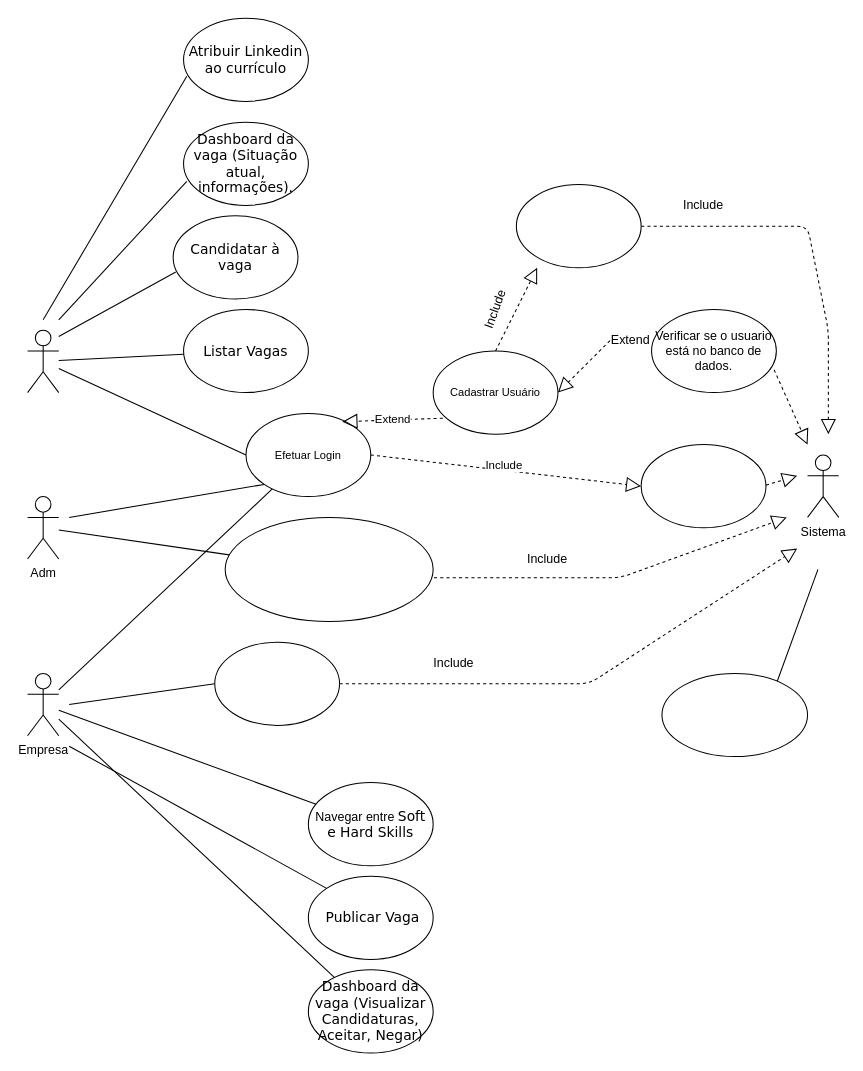
The diagram is 863 pixels wide and 1071 high, and some of its shapes have lost their labels. Each missing label, with the centre of its shape:
Aluno: the point at 43,361
Gerar perfil de personalidade: the point at 578,226
Gerar relátorios do colaborador: the point at 277,683
Notificações (Vagas,Candidaturas Atuais, etc).: the point at 734,714
Verificar senha: the point at 703,486
Visualizar/Editar/Excluir dados (Vaga, Perfil Aluno, Perfil Empresa).: the point at 328,568
